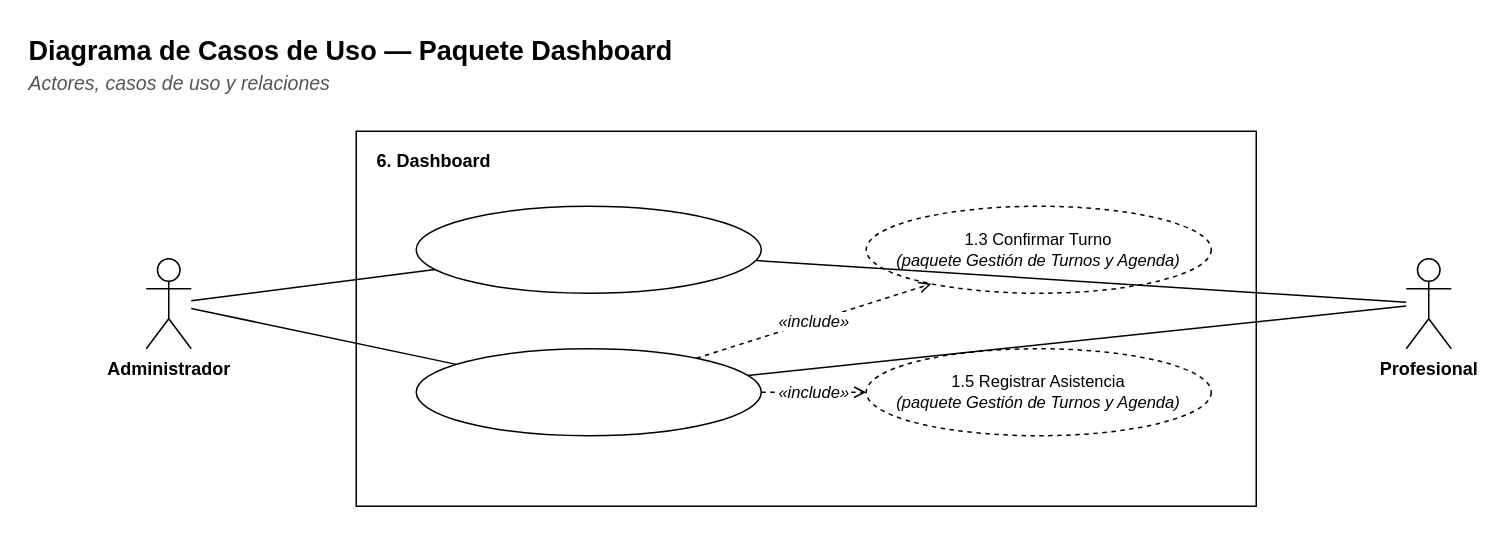
This 1503x533 diagram has some shape labels left out. The centre of each missing label's shape, as x and y in pixels:
"6.1 Visualizar Indicadores" belongs at point 588,249.
"6.2 Resolver Tareas del Día" belongs at point 588,391.
